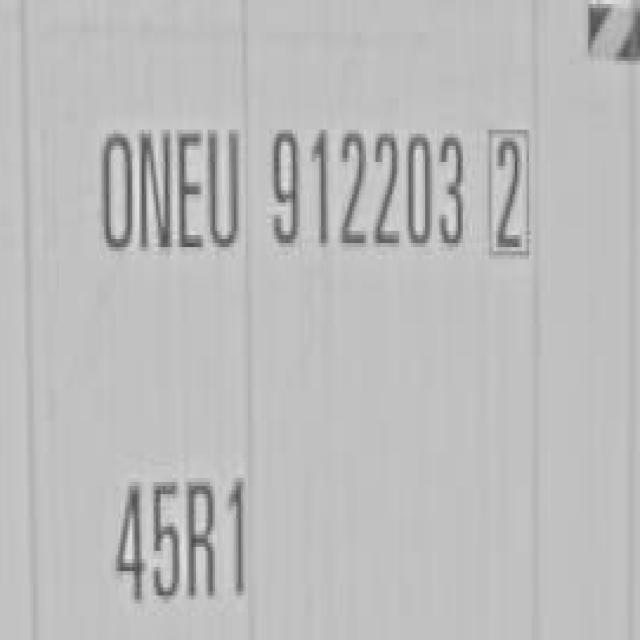dv: (478, 108, 543, 264)
owner: (100, 101, 246, 265)
serial: (267, 103, 468, 270)
size: (107, 443, 262, 618)
